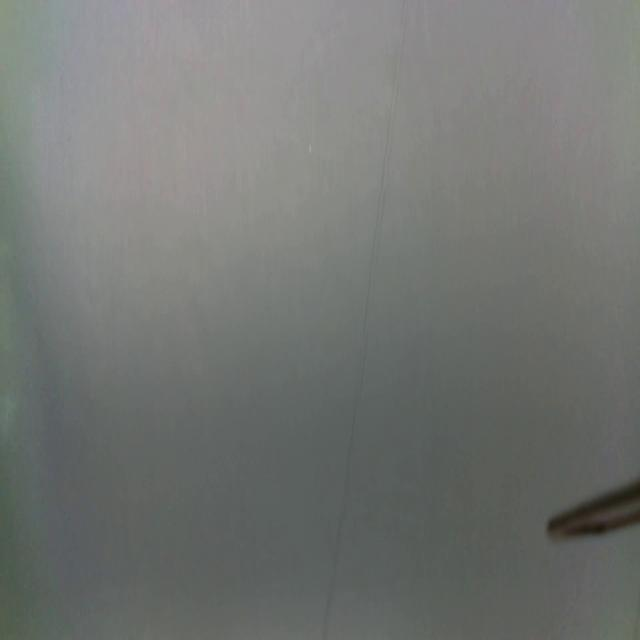crease: (320, 0, 413, 637)
